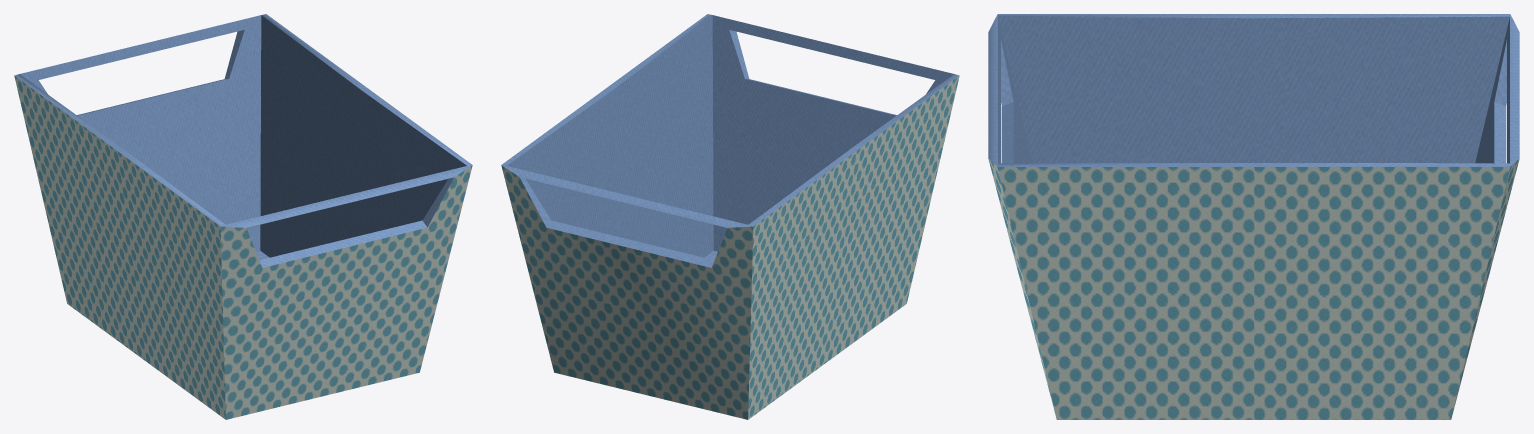
Rendered from Storage_Bin_E.FBX.
3 renders of one model, left to right at view 1: azimuth 30°, elevation 25°; view 2: azimuth 150°, elevation 25°; view 3: azimuth 270°, elevation 25°, orthographic. The views are drawn at different scales.
Visible parts, largest first — view 1: Storage_Bin; view 2: Storage_Bin; view 3: Storage_Bin.
Boxes of the visible parts, left/top/right/bottom form: Storage_Bin: left=14, top=14, right=472, bottom=419; Storage_Bin: left=501, top=14, right=959, bottom=419; Storage_Bin: left=988, top=14, right=1519, bottom=419.
Size of the model in its own units: 84.75 by 70.11 by 125.
